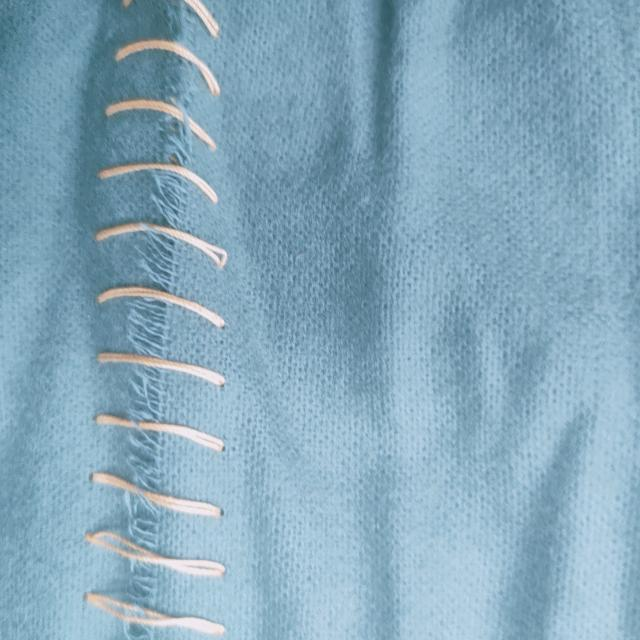Stitch: (45, 2, 294, 640)
